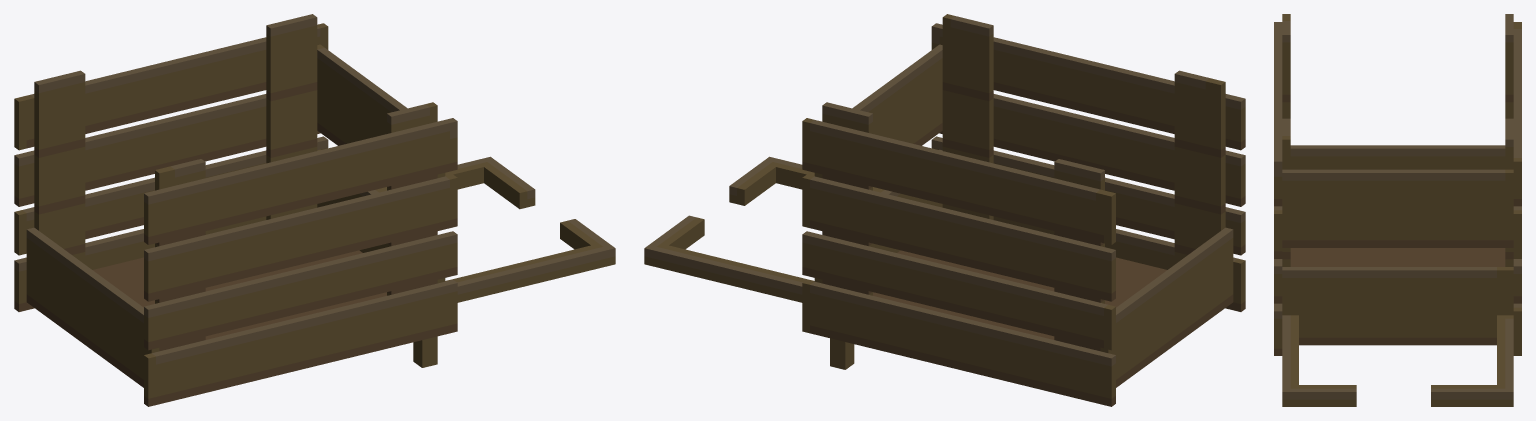
The model's file is cart_body_lowhandle.obj.
3 views of the same model, side by side, from view 1: azimuth 30°, elevation 25°; view 2: azimuth 150°, elevation 25°; view 3: azimuth 270°, elevation 25° (orthographic). The views are drawn at different scales.
Size of the model in its own units: 6.1 by 3.2 by 3.
1 material, 1 textured.
